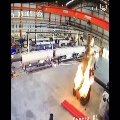fire: (73, 59, 94, 98)
